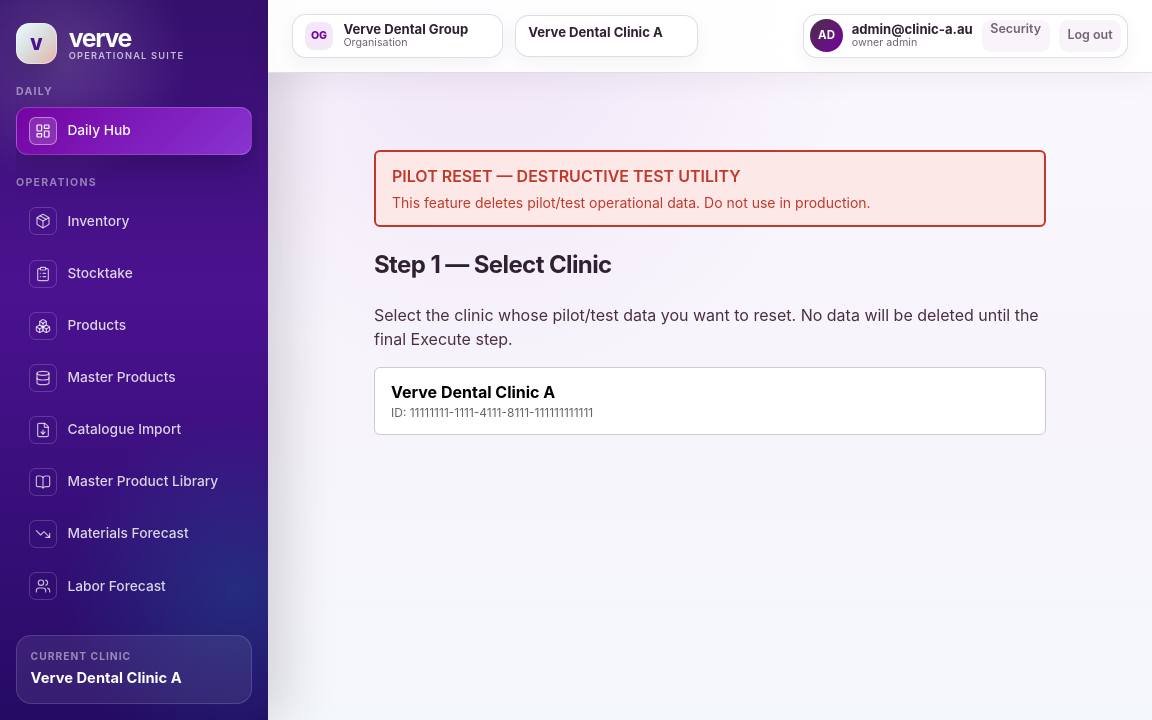
Test case: T61: Counts render in preview results › displays delete counts after preview
Note: Select clinic
Click the button "Verve Dental Clinic A" at (473, 392), box [374,367,1046,435]
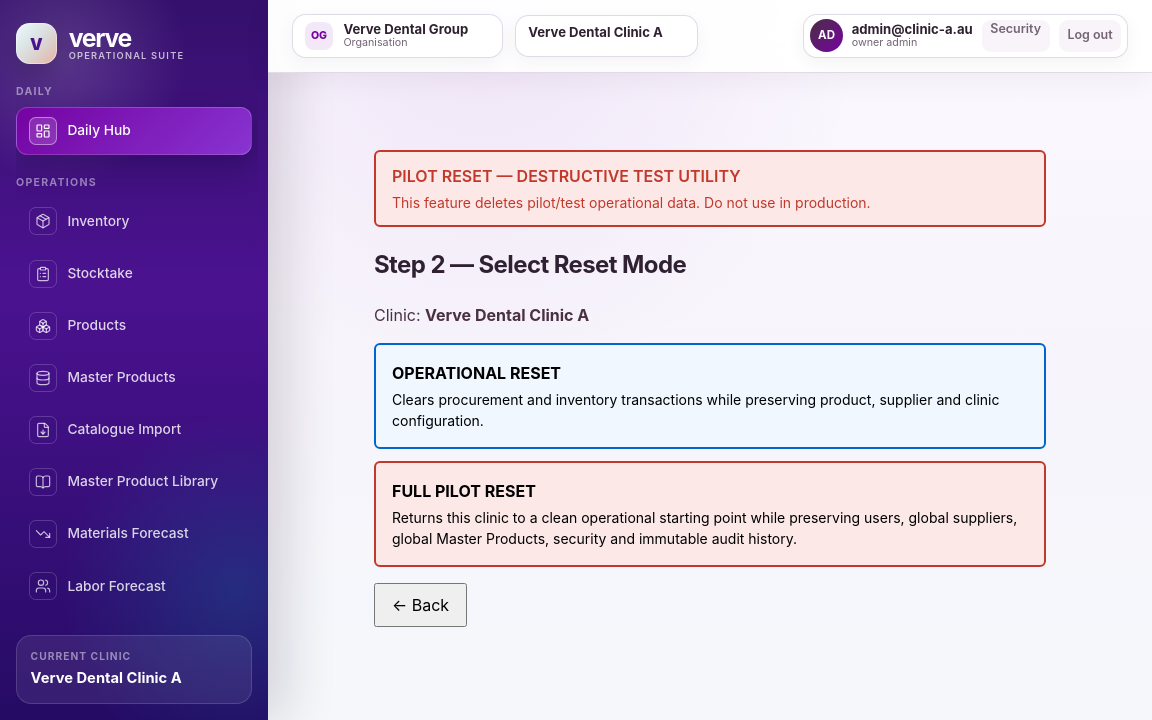
Note: Select mode
Click the text "OPERATIONAL RESET" at (476, 373), box [392,363,561,383]
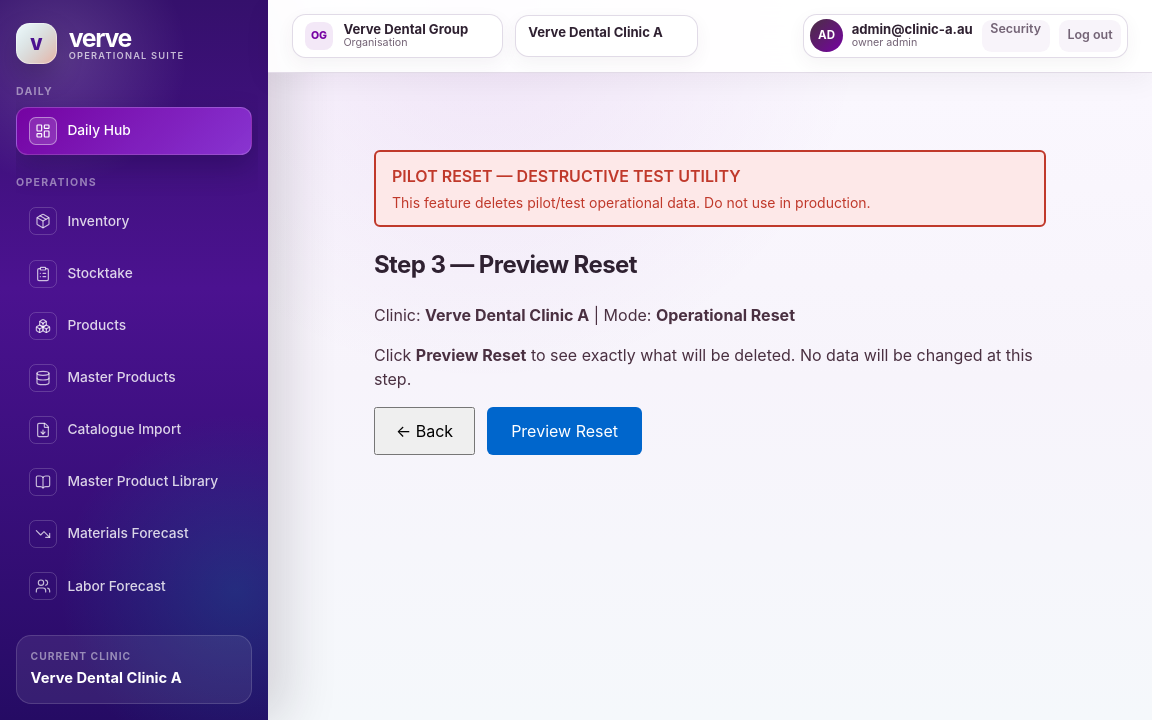
Note: Run preview
Click the button "Preview Reset" at (565, 431), box [487,407,642,455]
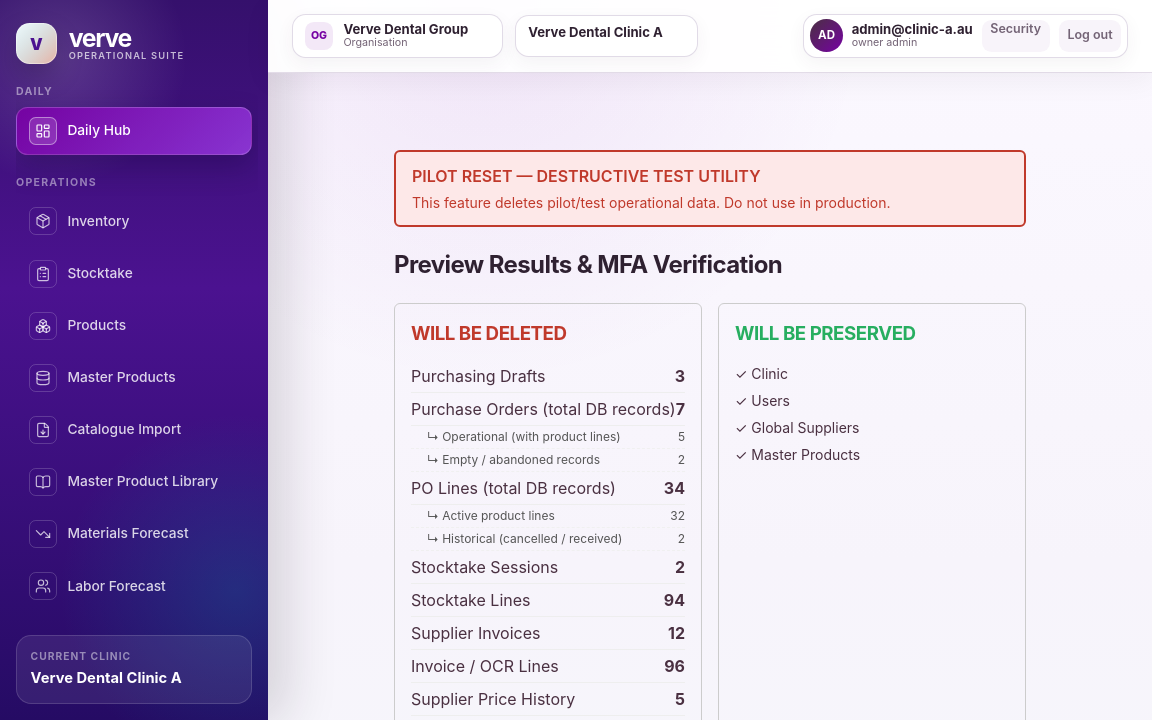
Now the heading "WILL BE DELETED" is shown, box [411,322,566,345]
Now the text "12" is shown, box [668,621,685,645]
Now the text "Purchase Orders (total DB records)" is shown, box [411,397,676,421]
